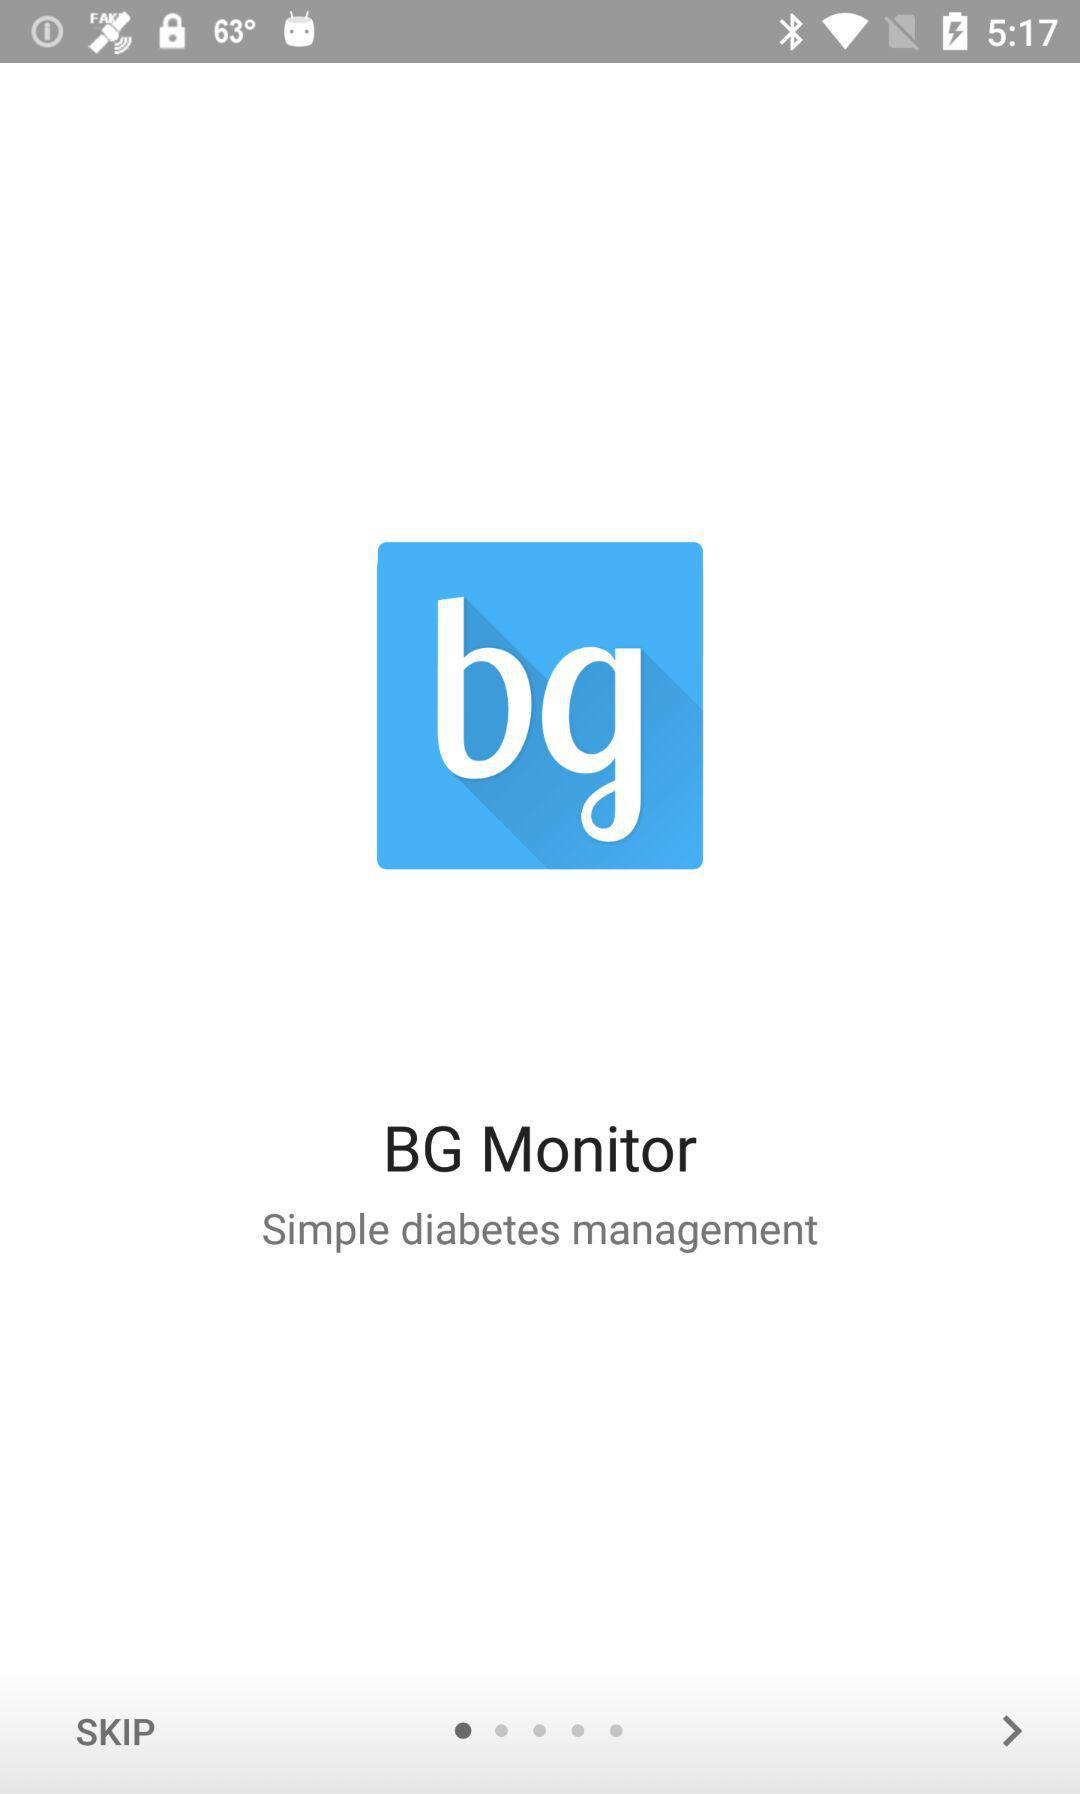Icon: (1002, 1715, 1024, 1748)
Image: (377, 542, 705, 870)
PageIndicator: (454, 1721, 625, 1740)
Text: (263, 1212, 819, 1255), (387, 1125, 698, 1174), (77, 1718, 156, 1747)
UpperTaskBar: (1, 1, 1080, 64)
